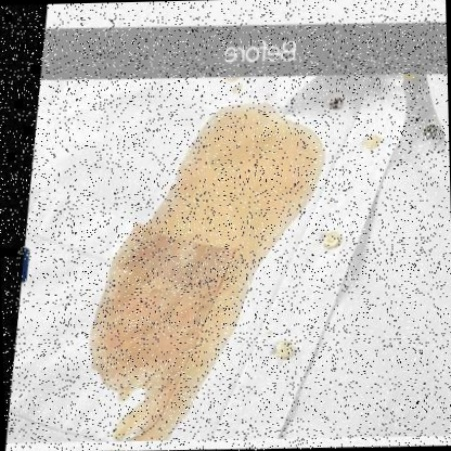coffee: (180, 119, 309, 236), (112, 268, 207, 380)
